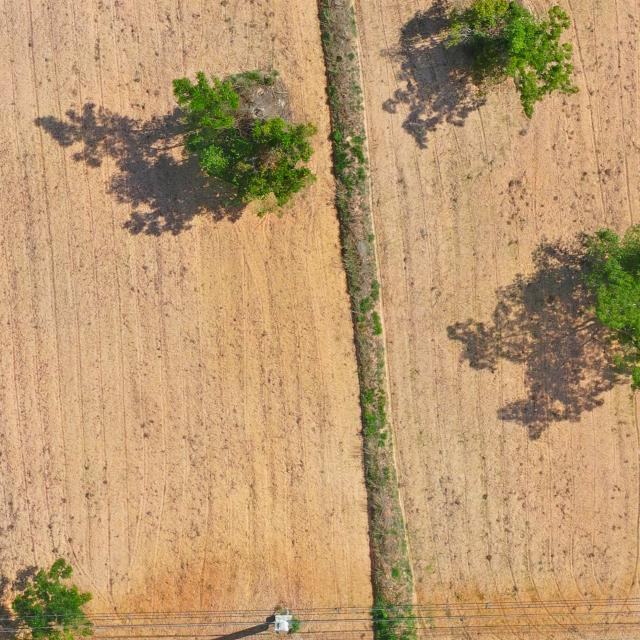Tree: (168, 72, 316, 217), (440, 0, 579, 118), (574, 221, 640, 393), (12, 557, 95, 640)
